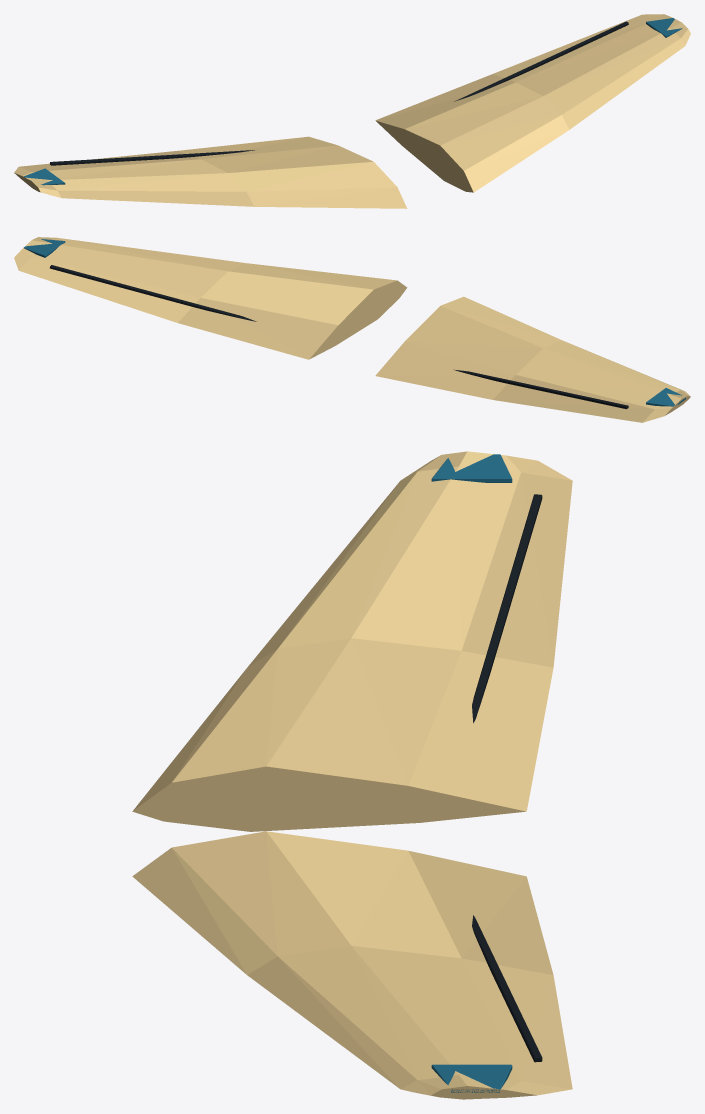
Rendered from EA_SweptCargoWing.fbx.
The picture shows the model from 3 angles, top to bottom: view 1: azimuth 30°, elevation 25°; view 2: azimuth 150°, elevation 25°; view 3: azimuth 270°, elevation 25°; orthographic projection. The views are drawn at different scales.
Parts seen in each view (by area): view 1: EA_SweptCargoWing; view 2: EA_SweptCargoWing; view 3: EA_SweptCargoWing.
Part boxes in pixels (x1,y1,x2,y2): EA_SweptCargoWing: (14,14,690,208); EA_SweptCargoWing: (14,237,690,422); EA_SweptCargoWing: (132,451,572,1099).
Bounding box in the file's own units: 3.92 × 0.2755 × 1.15.
3 materials, 3 textured.
